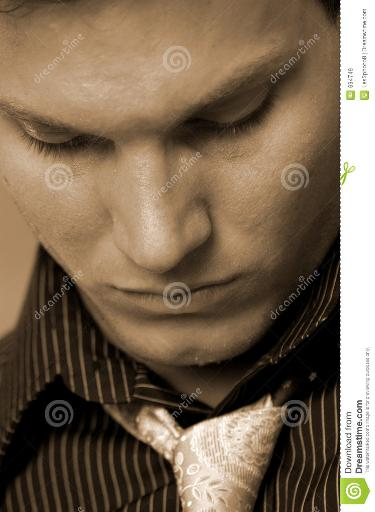left_eye: (190, 80, 282, 146)
left_lip_corner: (227, 266, 246, 296)
right_eye: (14, 107, 95, 162)
right_lip_corner: (101, 277, 129, 304)
